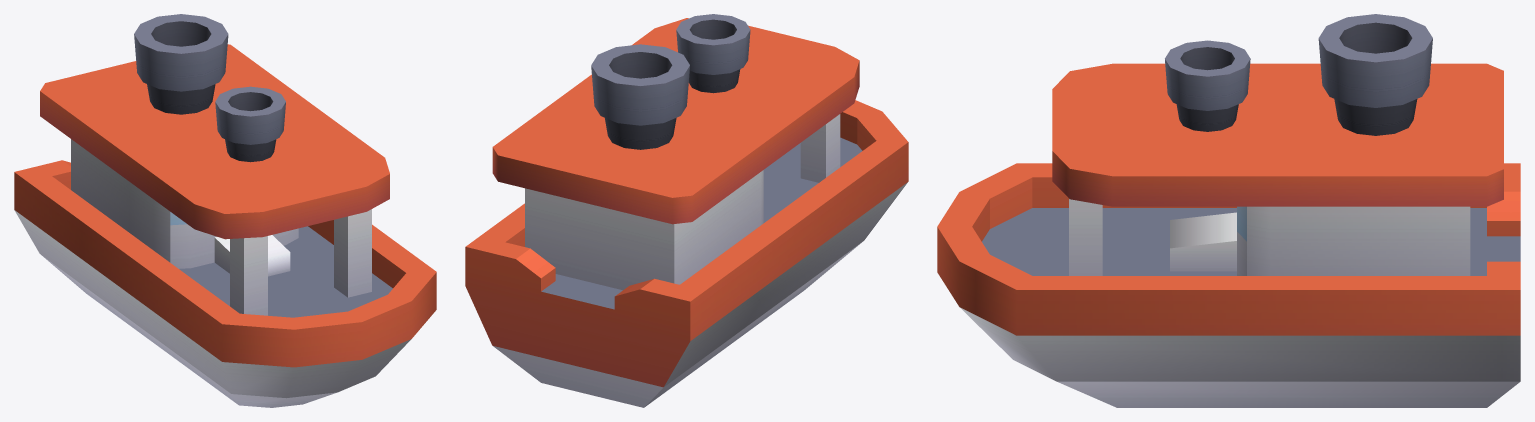
The model's file is boat-tug-a.glb.
3 views of the same model, side by side, from view 1: azimuth 30°, elevation 25°; view 2: azimuth 150°, elevation 25°; view 3: azimuth 270°, elevation 25° (orthographic). The views are drawn at different scales.
Visible parts, largest first — view 1: boat-tug-a; view 2: boat-tug-a; view 3: boat-tug-a.
Part boxes in pixels (bbox=[...]): boat-tug-a: bbox=[14, 14, 436, 407]; boat-tug-a: bbox=[465, 14, 908, 407]; boat-tug-a: bbox=[937, 14, 1520, 407].
Bounding box in the file's own units: 1.79 × 2.24 × 3.47.
1 material, 1 textured.
